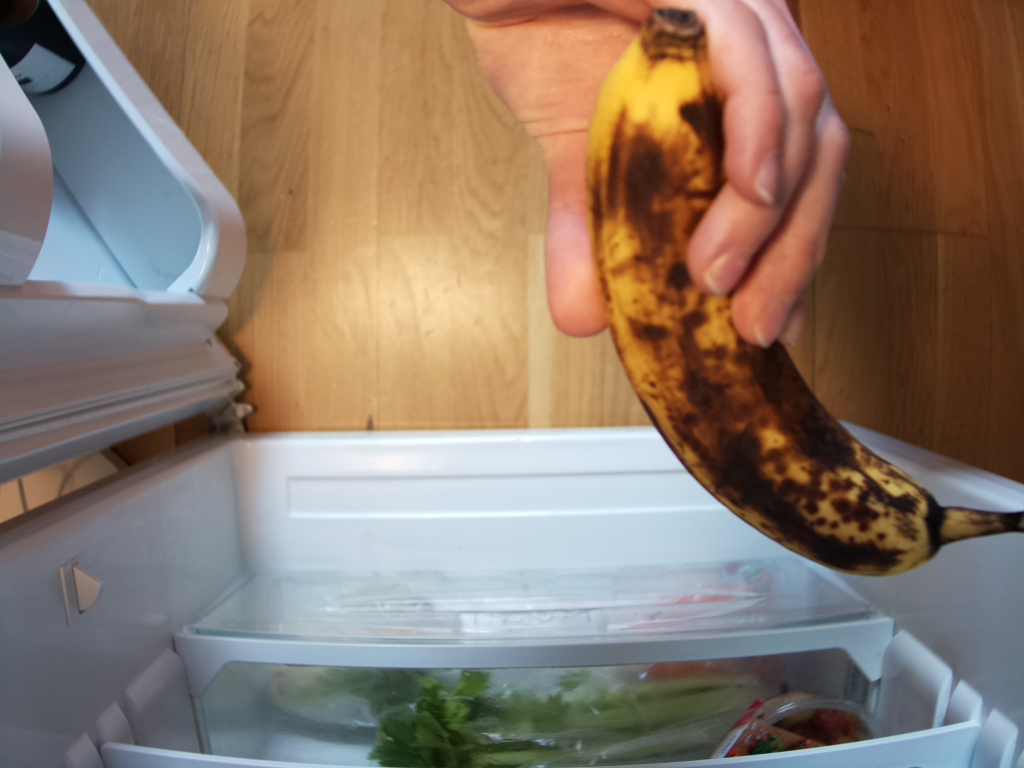banana-overripe: (582, 5, 1024, 577)
